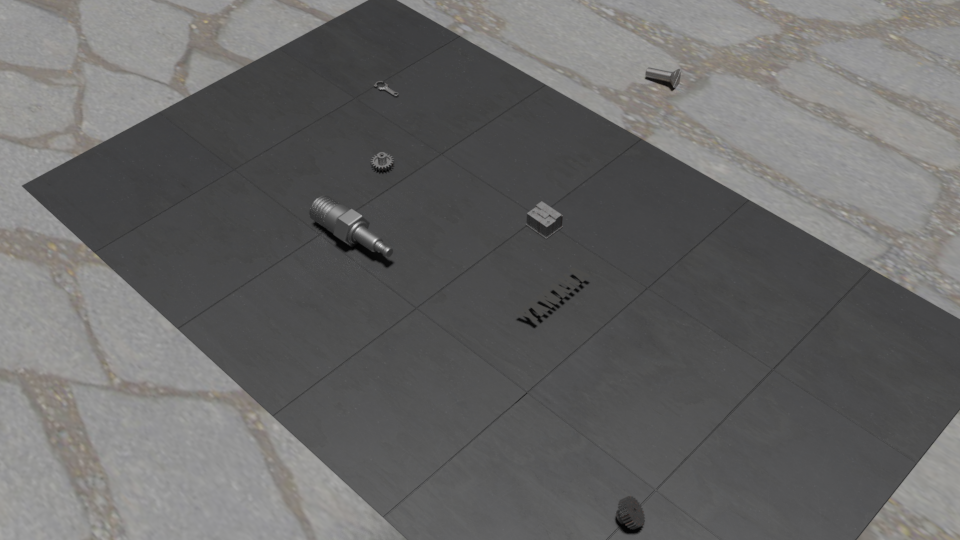yamaha_letters: (515, 266, 591, 322)
